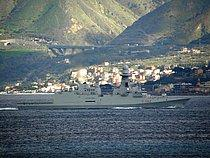MIL_Ship: (15, 63, 191, 110)
